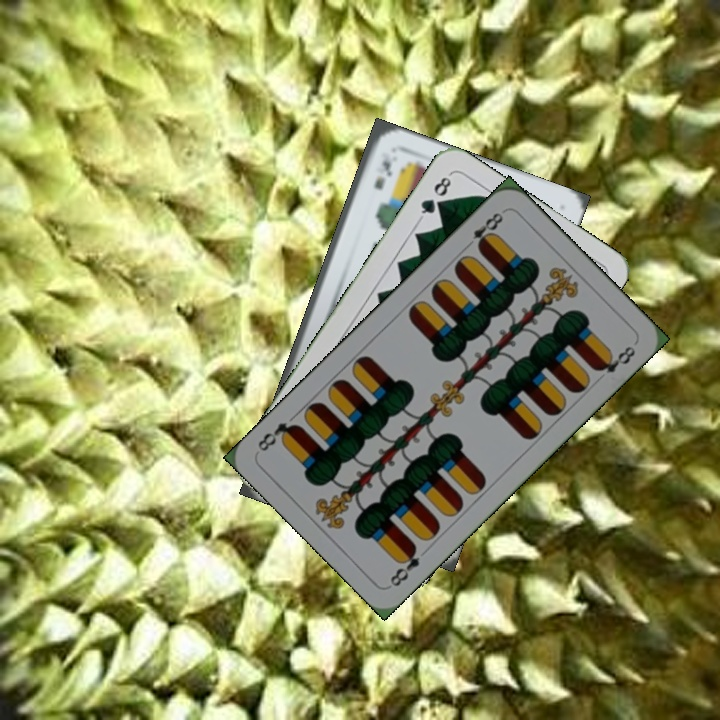E8: (460, 208, 506, 253), (386, 541, 423, 589)
EK: (370, 155, 394, 193)
G8: (415, 170, 454, 223)
